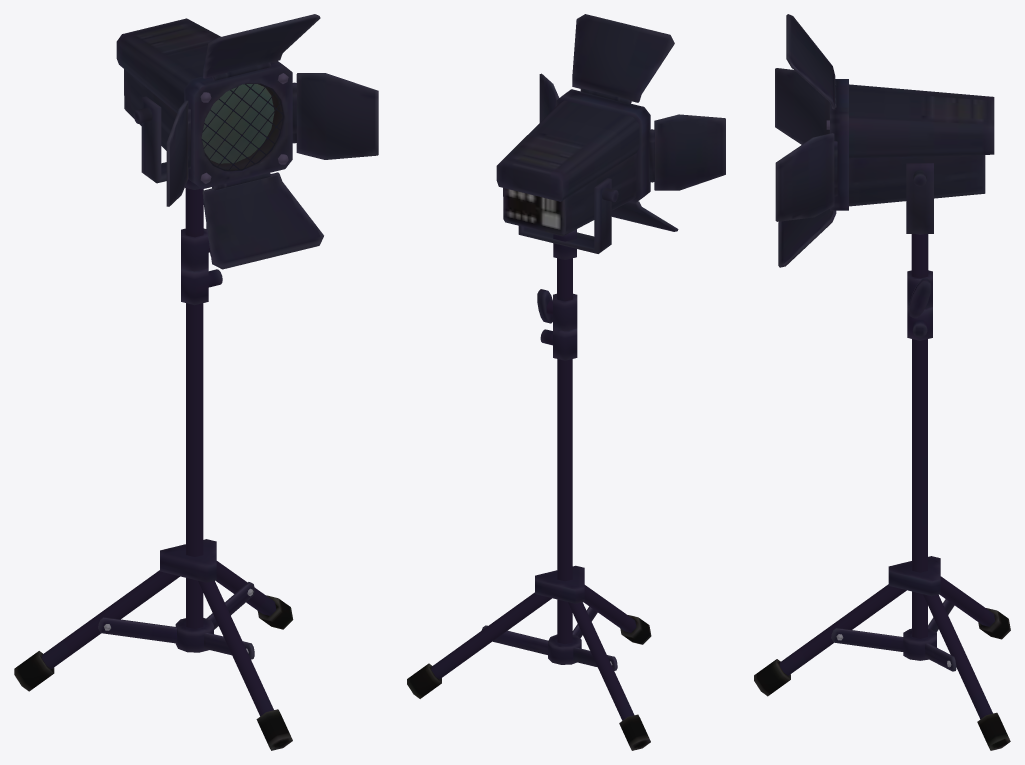
3 renders of one model, left to right at view 1: azimuth 30°, elevation 25°; view 2: azimuth 150°, elevation 25°; view 3: azimuth 270°, elevation 25°, orthographic. The views are drawn at different scales.
Bounding box in the file's own units: 8.56 × 21.15 × 7.48.
Materials: 2 (2 with a texture image).
